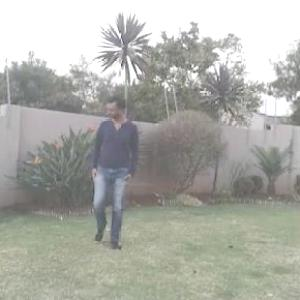follow: (88, 91, 139, 249)
